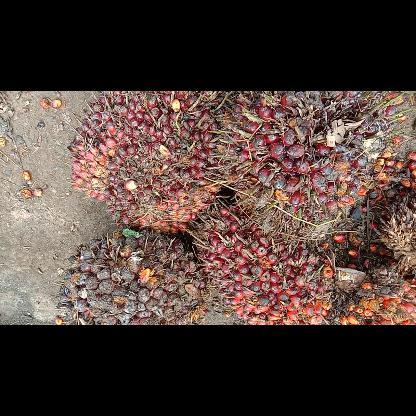Kurang masak: (53, 228, 210, 324)
TBS masak: (63, 90, 228, 235), (223, 91, 395, 221), (189, 202, 343, 324)
